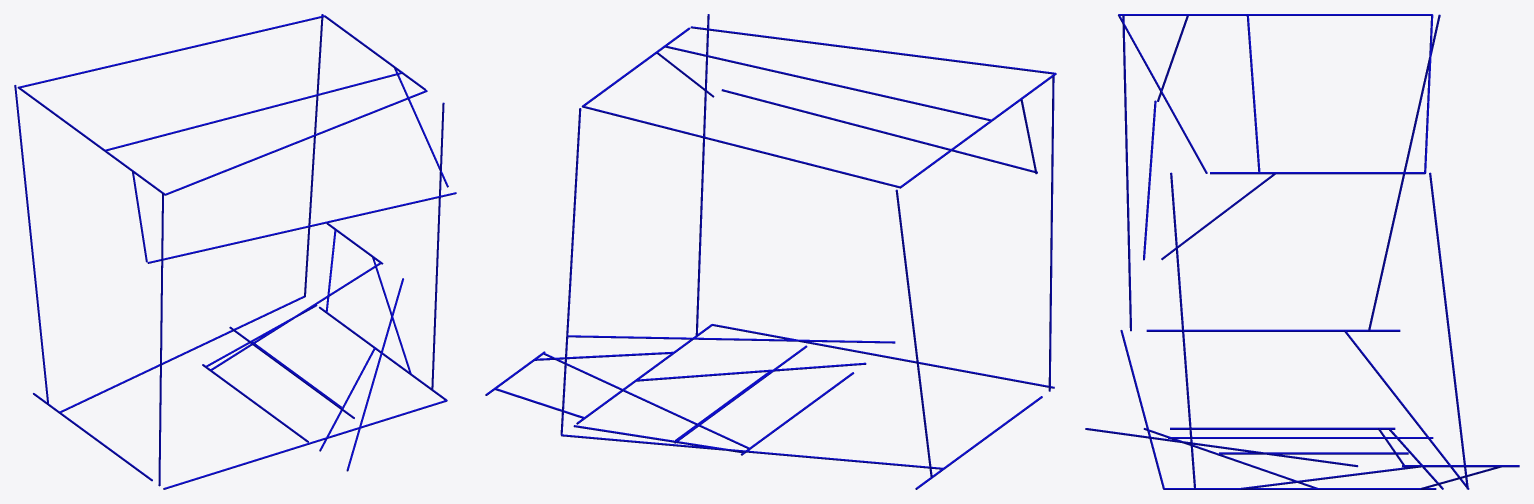
File: corrected_3d_strokes.glb
The picture shows the model from 3 angles, left to right: view 1: azimuth 30°, elevation 25°; view 2: azimuth 150°, elevation 25°; view 3: azimuth 270°, elevation 25°; orthographic projection. The views are drawn at different scales.
Parts seen in each view (by area): view 1: world; view 2: world; view 3: world.
Part boxes in pixels (left/top/right/bottom): world: left=14, top=14, right=456, bottom=489; world: left=485, top=14, right=1056, bottom=489; world: left=1085, top=14, right=1519, bottom=489.
Size of the model in its own units: 7.74 by 6.47 by 7.75.
